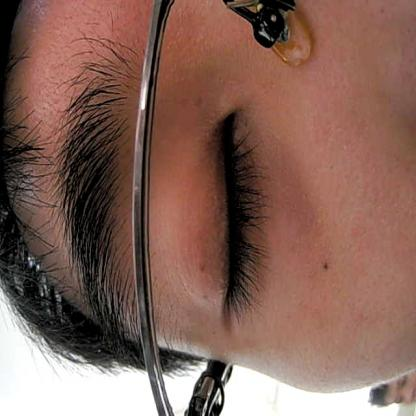Close: (188, 96, 273, 334)
